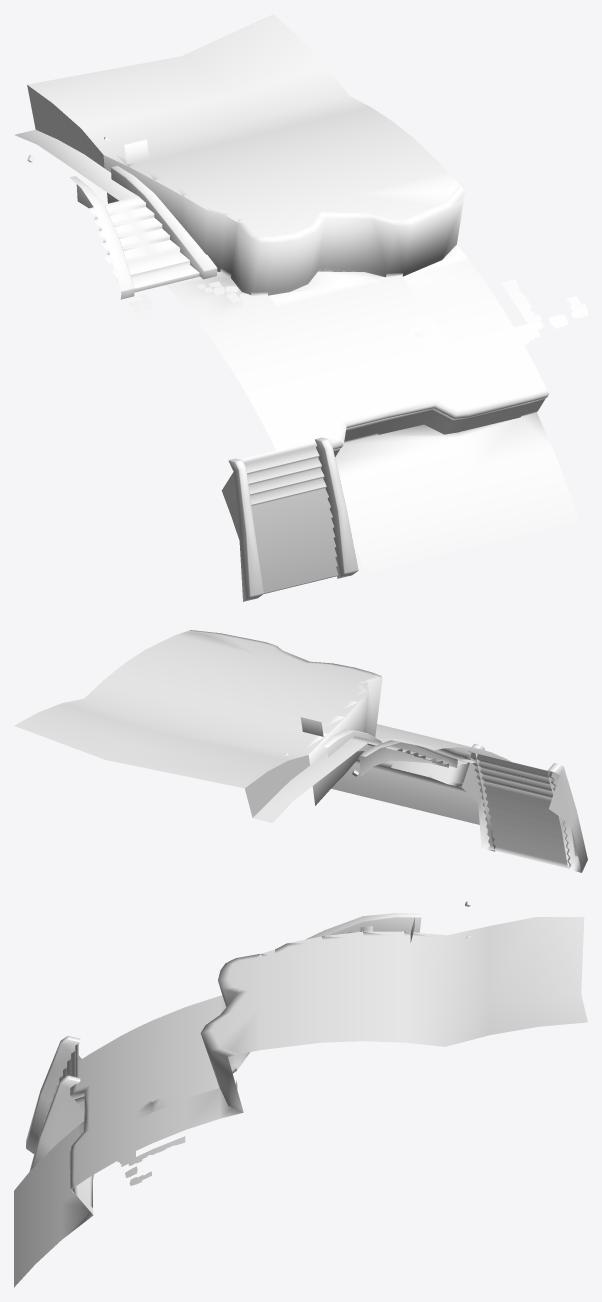
The model's file is grd_Dtn_nc_1.dae.
3 views of the same model, one above another, from view 1: azimuth 30°, elevation 25°; view 2: azimuth 150°, elevation 25°; view 3: azimuth 270°, elevation 25° (orthographic). The views are drawn at different scales.
Parts seen in each view (by area): view 1: grd_Dtn_nc_1; view 2: grd_Dtn_nc_1; view 3: grd_Dtn_nc_1.
Part boxes in pixels (x1=…): grd_Dtn_nc_1: x1=14, y1=14, x2=587, y2=601; grd_Dtn_nc_1: x1=14, y1=630, x2=587, y2=872; grd_Dtn_nc_1: x1=14, y1=901, x2=587, y2=1287.
Size of the model in its own units: 757 by 537 by 1010.
Materials: 9 (1 with a texture image).
